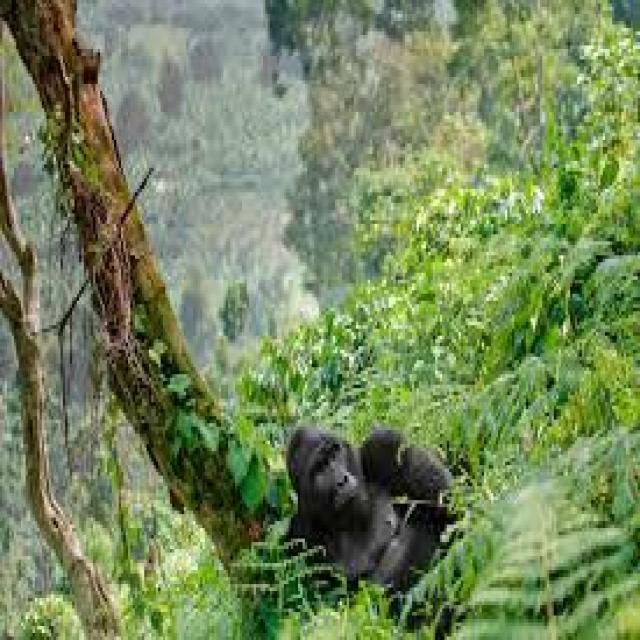Gorilla: (277, 408, 498, 618)
